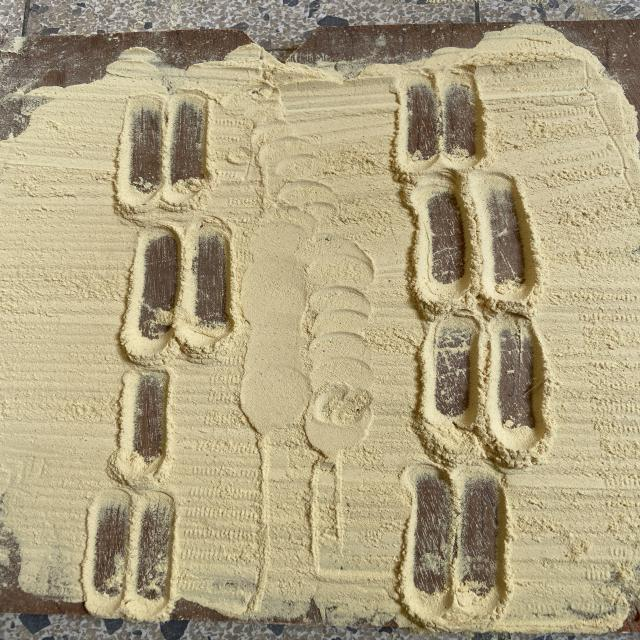double: (391, 462, 524, 624), (414, 314, 552, 464), (399, 170, 540, 308), (119, 220, 242, 364), (78, 489, 185, 618), (111, 90, 219, 211), (386, 66, 493, 167)
single: (107, 368, 182, 487)
